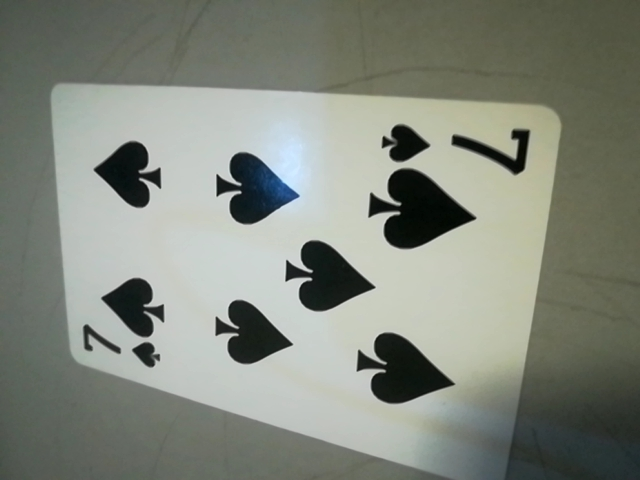ht 7: (389, 115, 541, 178)
